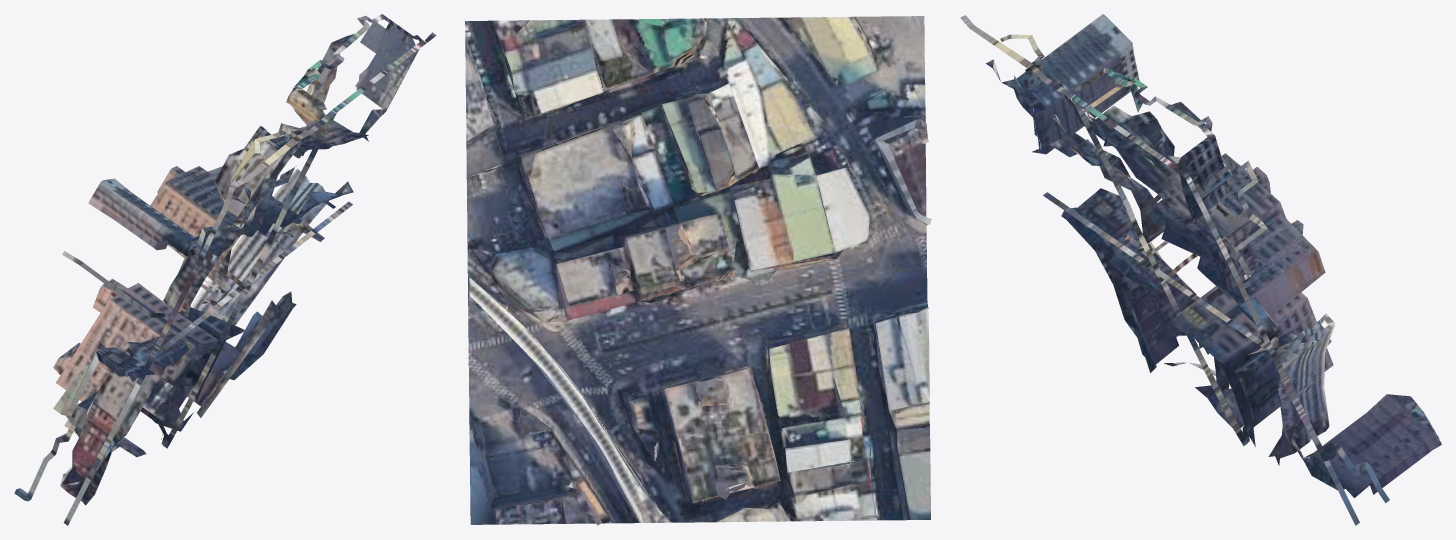
3 renders of one model, left to right at view 1: azimuth 30°, elevation 25°; view 2: azimuth 150°, elevation 25°; view 3: azimuth 270°, elevation 25°, orthographic. The views are drawn at different scales.
Size of the model in its own units: 163 by 148 by 154.
Materials: 1 (1 with a texture image).
